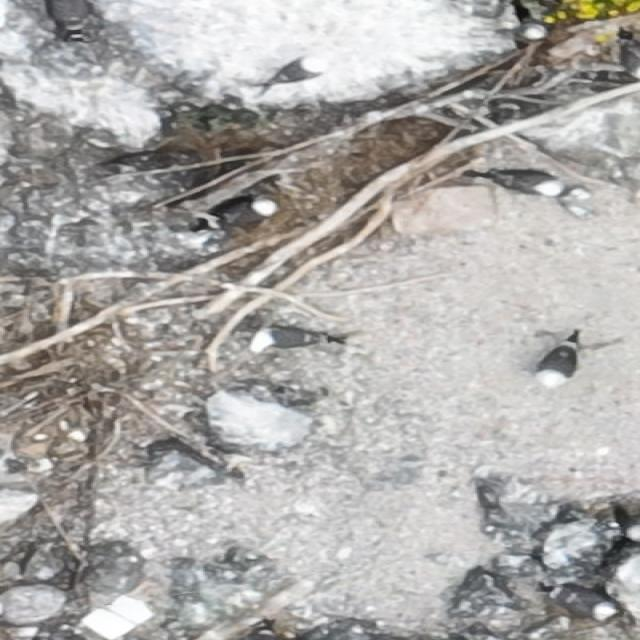umineko: (248, 328, 344, 354), (538, 337, 580, 390), (490, 169, 564, 199), (556, 588, 612, 615), (220, 200, 267, 224), (274, 60, 315, 81), (521, 20, 548, 39)
